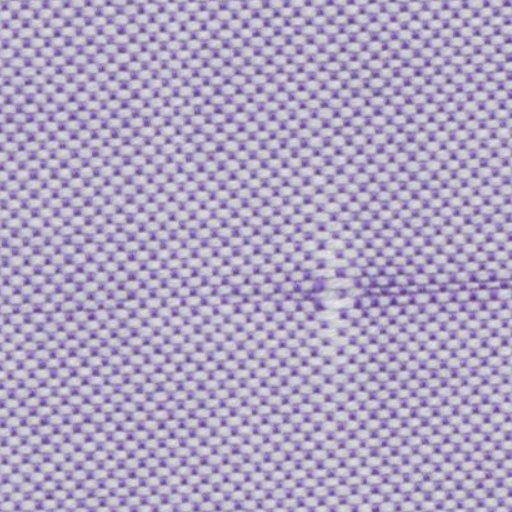DaiSha: (292, 211, 384, 374)
